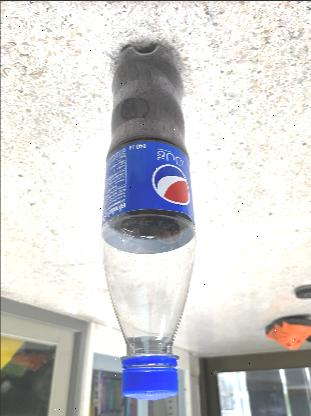Plastic Bottle: (78, 27, 209, 407)
